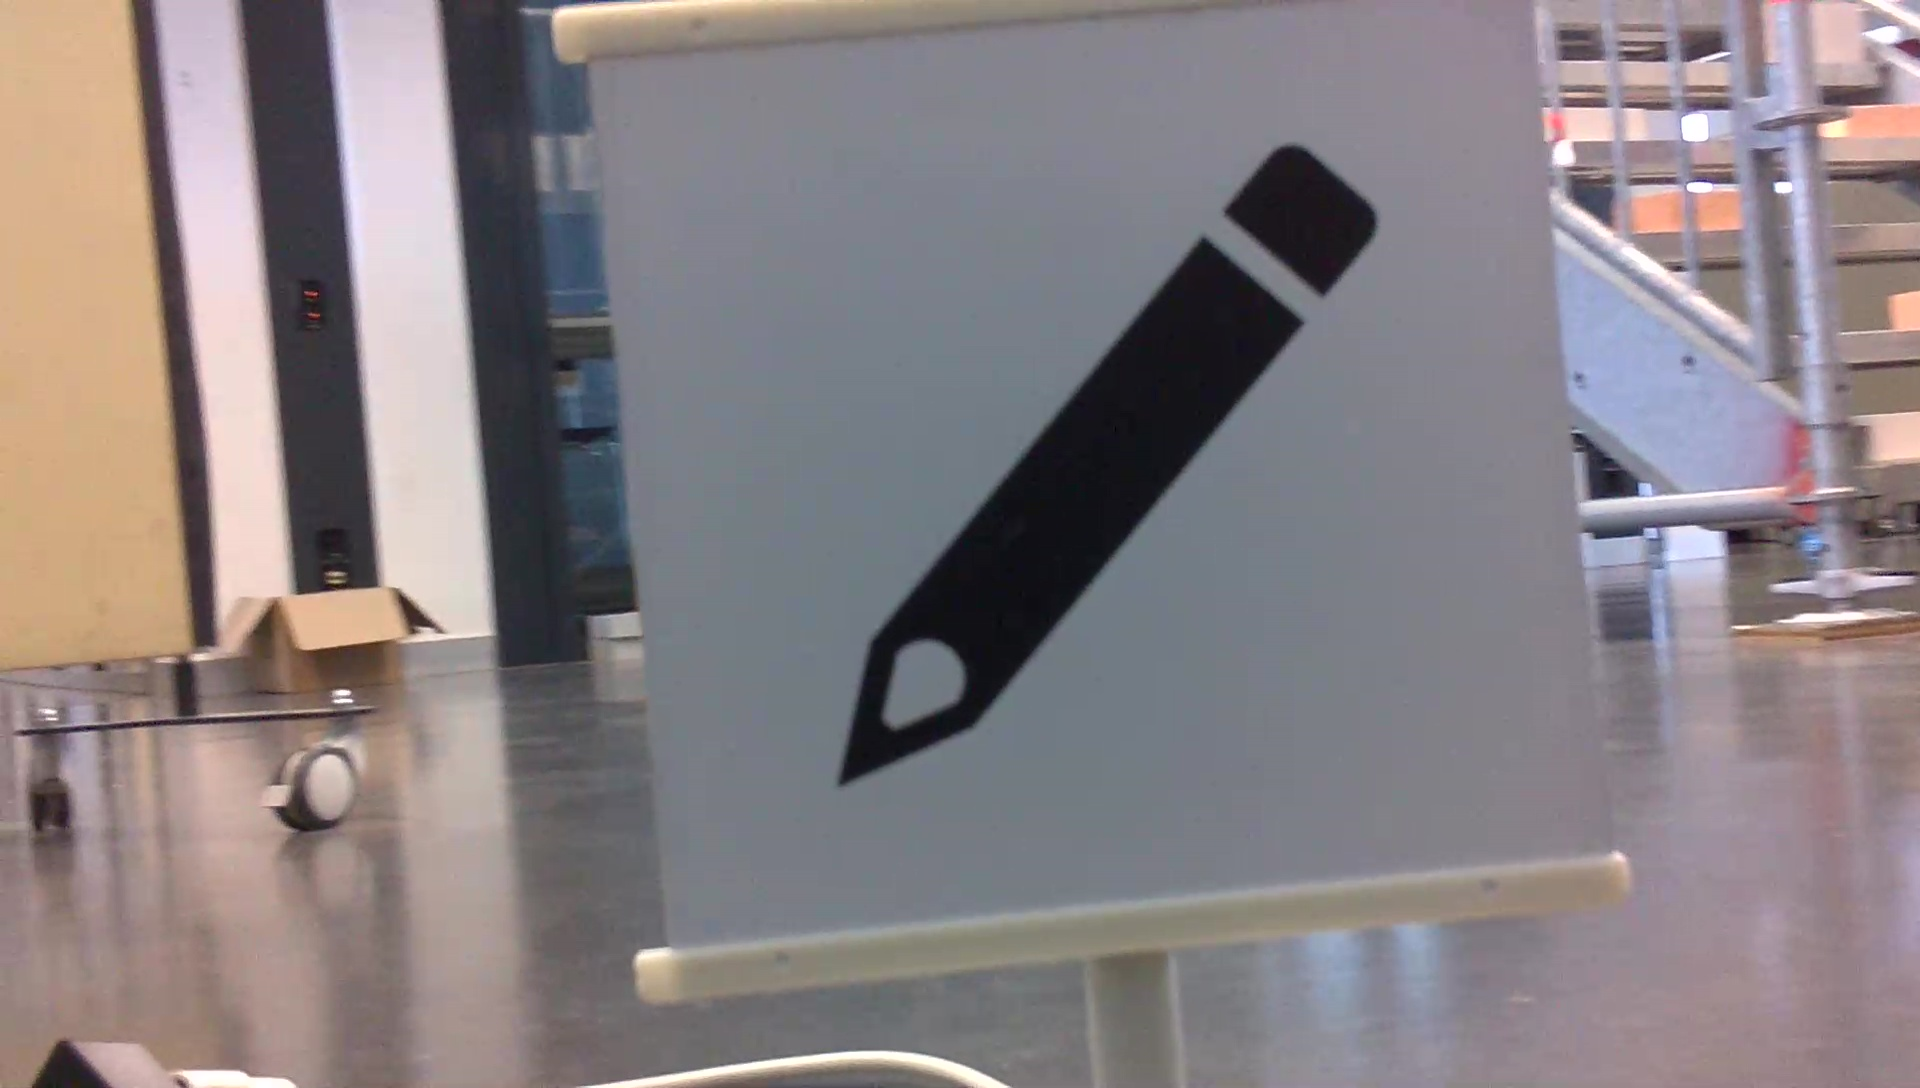brick: (1822, 103, 1920, 137)
pencil: (804, 129, 1389, 803)
